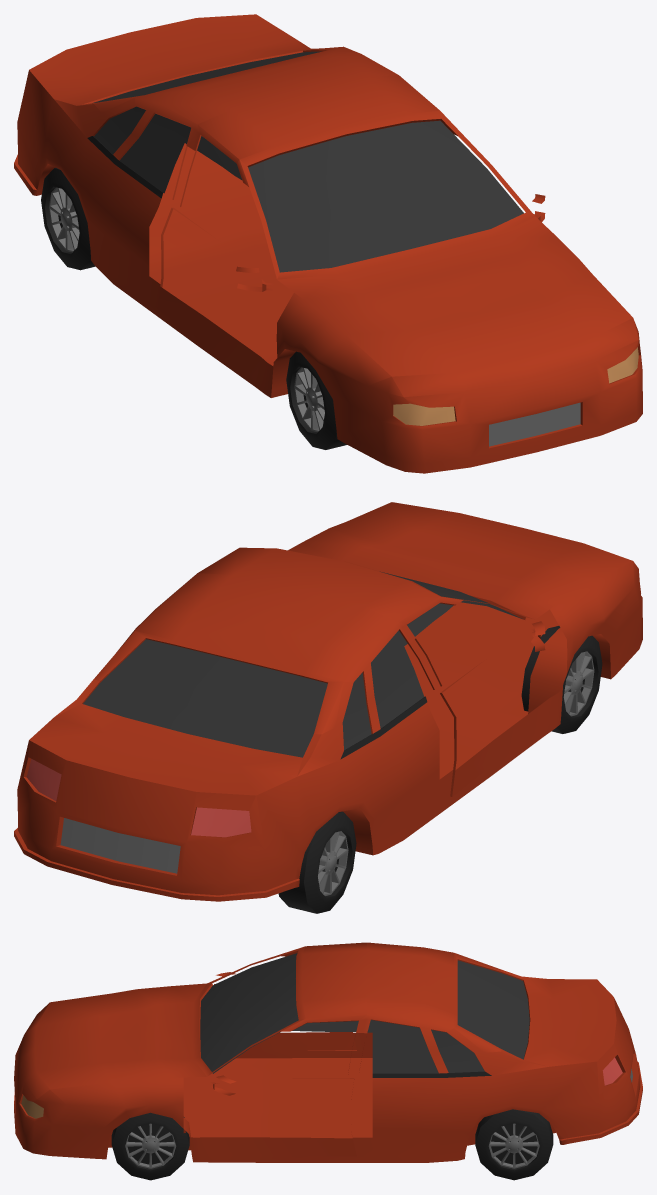
Rendered from sedan-body.glb.
3 views of the same model, one above another, from view 1: azimuth 30°, elevation 25°; view 2: azimuth 150°, elevation 25°; view 3: azimuth 270°, elevation 25° (orthographic). The views are drawn at different scales.
Bounding box in the file's own units: 1.77 × 1.18 × 4.22.
Materials: 1 (1 with a texture image).
